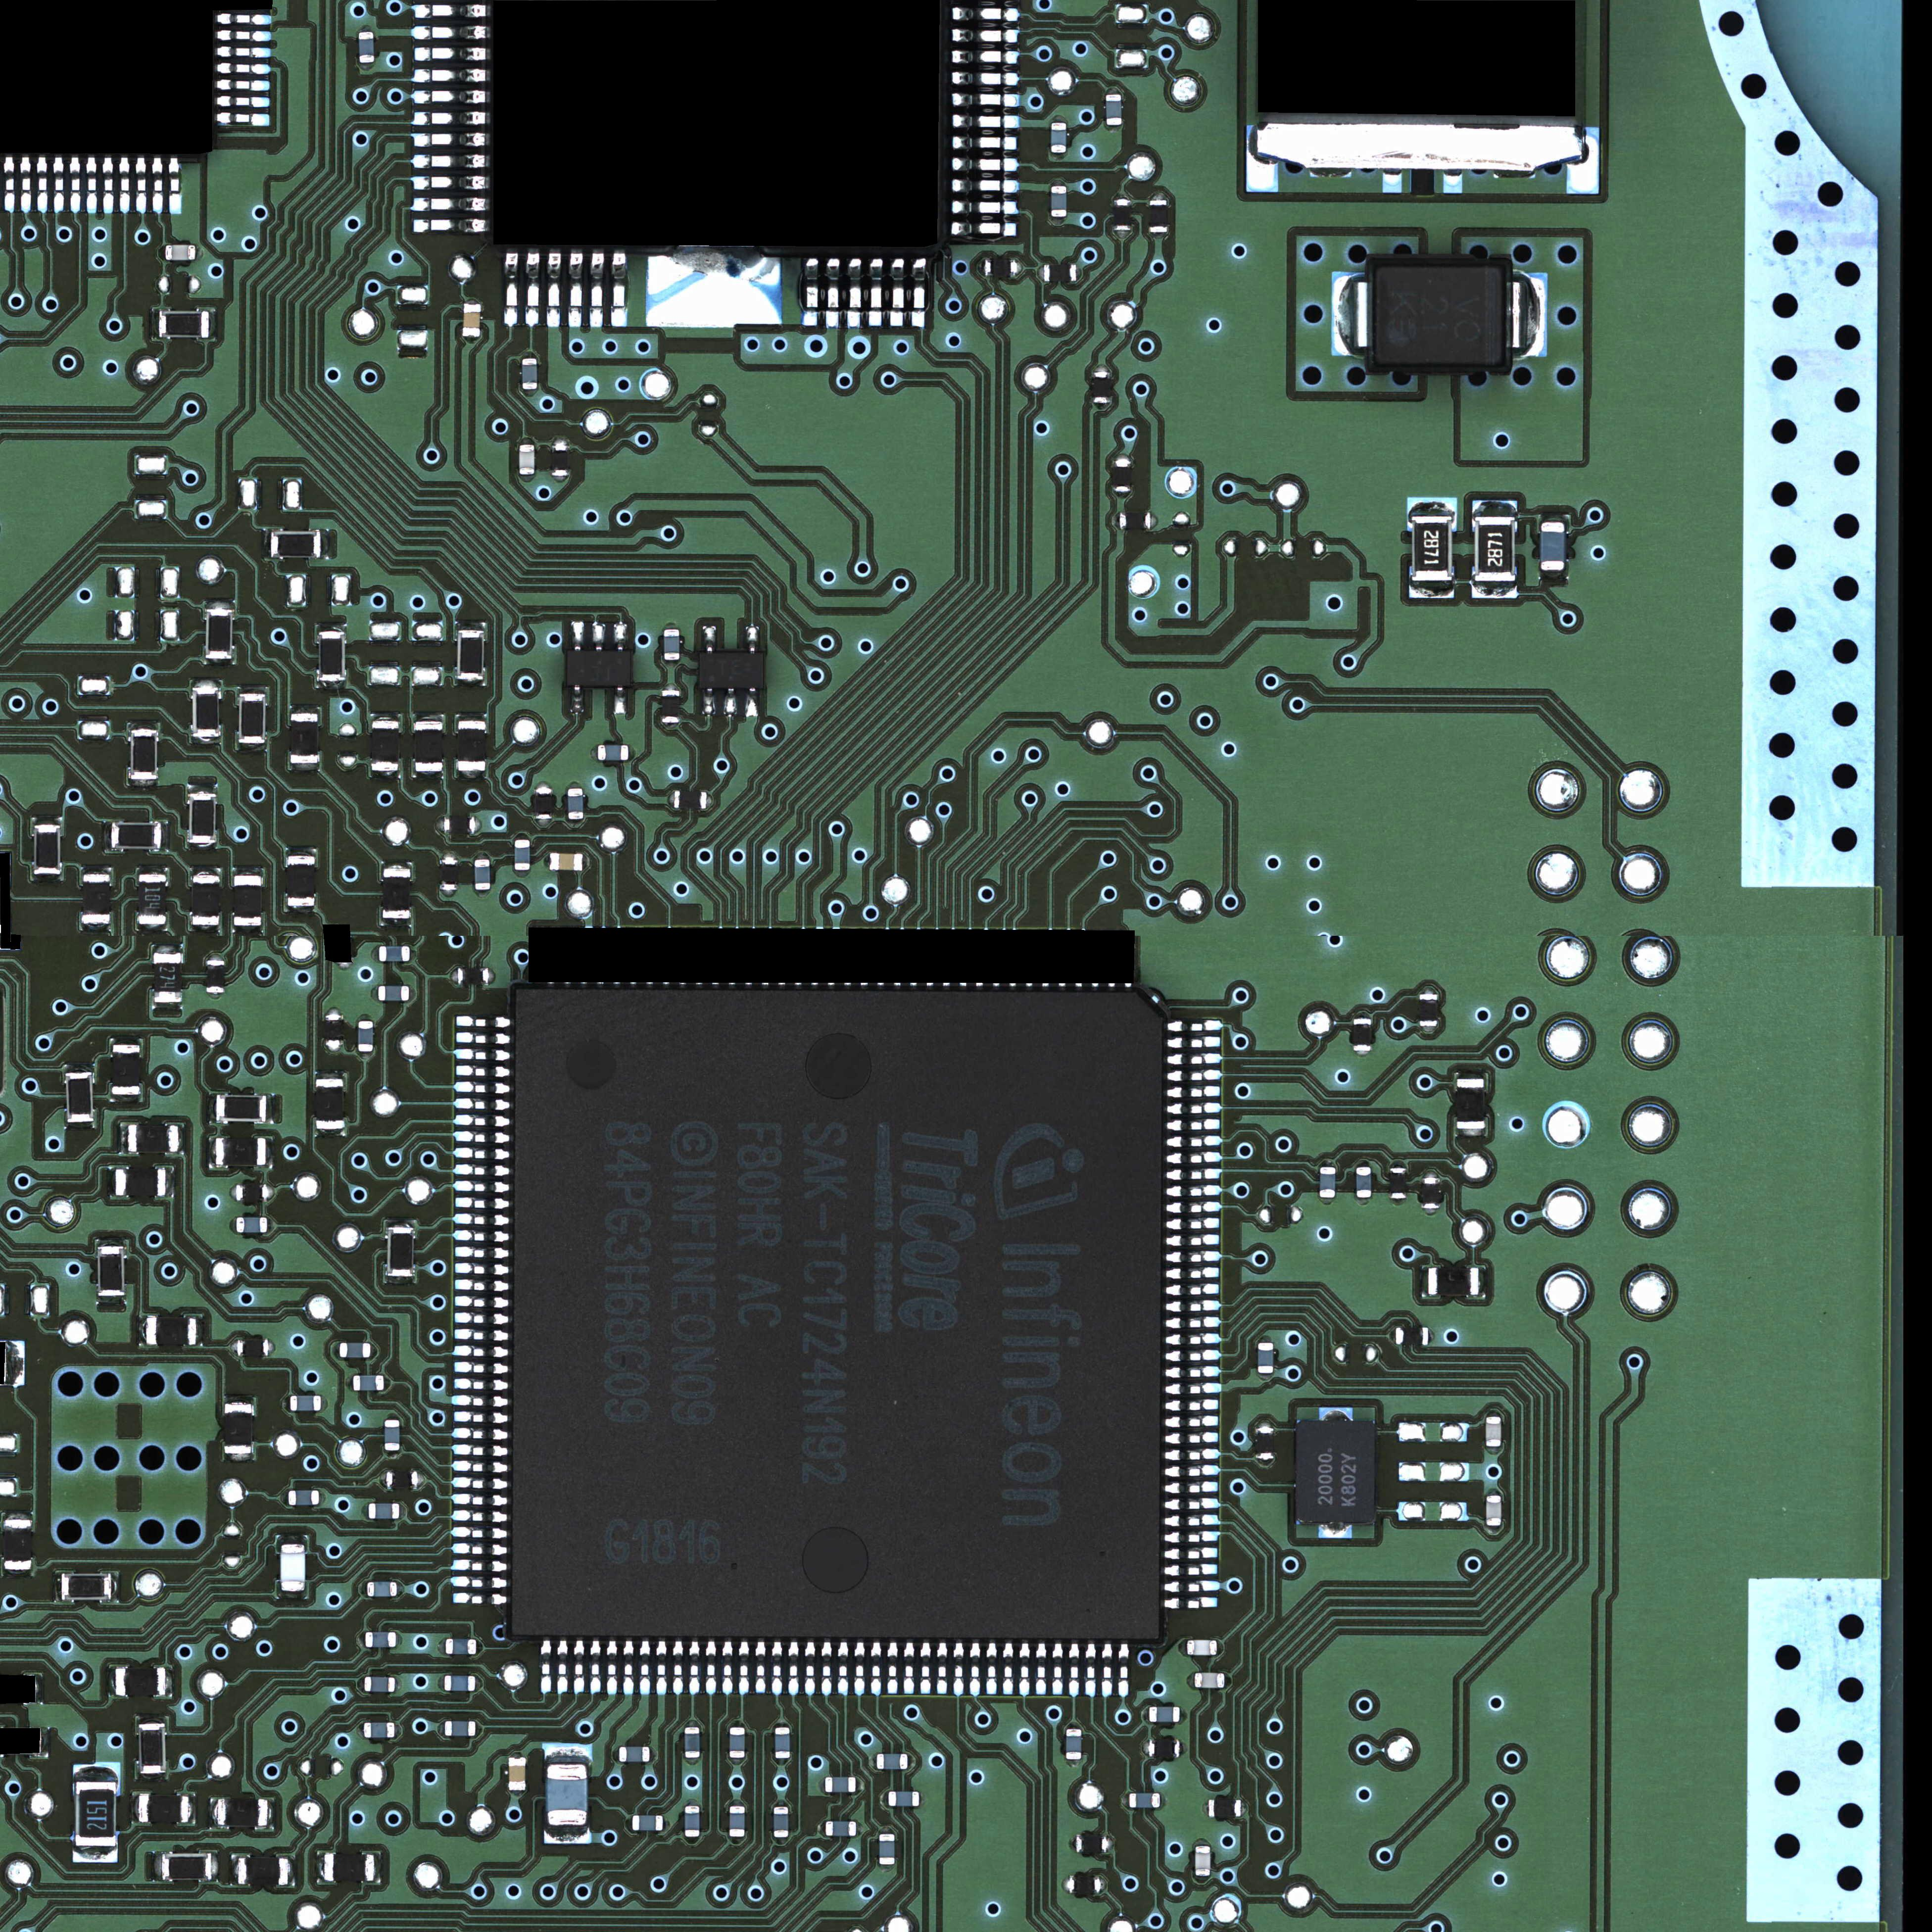Package: (515, 989, 1159, 1638), (1375, 267, 1504, 366), (1295, 1419, 1376, 1523), (76, 1782, 117, 1847), (1474, 517, 1514, 582), (1412, 517, 1453, 580), (547, 1764, 587, 1824), (699, 653, 764, 688), (566, 651, 632, 685), (1428, 1267, 1477, 1297), (216, 1138, 265, 1166), (225, 1403, 253, 1453), (315, 1079, 343, 1129), (147, 1316, 196, 1345), (1456, 1079, 1484, 1129), (111, 1046, 140, 1095), (290, 713, 318, 763), (414, 722, 442, 771), (382, 869, 410, 918), (4, 1520, 32, 1569), (287, 856, 315, 906), (115, 1169, 166, 1196), (189, 793, 216, 844), (159, 311, 209, 338), (140, 1796, 189, 1822), (324, 1854, 373, 1881), (115, 1668, 165, 1695), (234, 876, 260, 925), (218, 1799, 267, 1826), (458, 722, 485, 771), (318, 632, 345, 681), (239, 1858, 288, 1884), (83, 874, 110, 924), (65, 1072, 92, 1122), (154, 952, 180, 1001), (34, 824, 60, 874), (131, 729, 157, 778), (193, 688, 219, 738), (127, 1125, 177, 1152), (193, 876, 219, 925), (140, 874, 166, 924), (218, 1095, 265, 1122), (97, 1247, 124, 1295), (387, 1228, 414, 1276), (372, 722, 398, 770), (271, 533, 320, 557), (111, 824, 161, 849), (140, 1723, 165, 1773), (62, 1575, 111, 1599), (458, 630, 483, 679), (241, 694, 265, 743), (207, 610, 232, 658), (1541, 522, 1566, 570), (163, 1854, 211, 1879), (281, 1545, 306, 1591), (662, 690, 681, 724), (1419, 993, 1437, 1026), (984, 258, 1017, 276), (464, 304, 481, 336), (1150, 200, 1168, 232), (1353, 1019, 1371, 1051), (1044, 264, 1076, 281), (674, 791, 706, 809), (1208, 1799, 1240, 1817), (1113, 460, 1131, 492), (1256, 1428, 1274, 1460), (1148, 1739, 1180, 1757), (1093, 372, 1111, 403), (550, 853, 582, 870), (207, 961, 225, 993), (510, 1757, 525, 1790), (1389, 1168, 1407, 1198), (1077, 1835, 1108, 1852), (1422, 1178, 1440, 1208), (879, 1833, 895, 1865), (824, 1776, 856, 1792), (1051, 186, 1067, 218), (456, 968, 488, 984), (685, 1727, 701, 1759), (888, 1790, 920, 1806), (444, 1675, 476, 1691), (384, 1419, 400, 1451), (237, 1339, 269, 1355), (536, 787, 552, 819), (1396, 1329, 1428, 1345), (1069, 1877, 1100, 1893), (633, 1815, 663, 1831), (1129, 1792, 1159, 1808), (1115, 200, 1131, 230), (1320, 1168, 1336, 1198), (379, 985, 409, 1001), (1194, 1672, 1224, 1688), (357, 1021, 373, 1051), (441, 860, 456, 890), (1106, 96, 1122, 126), (729, 1727, 745, 1757), (878, 1753, 908, 1769), (237, 1217, 267, 1233), (1194, 1845, 1210, 1875), (288, 1490, 318, 1506), (729, 1806, 745, 1836), (366, 1631, 396, 1647), (826, 1821, 856, 1836), (1486, 1495, 1502, 1525), (354, 1375, 384, 1391), (522, 359, 538, 389), (1150, 1706, 1180, 1721), (663, 630, 679, 660), (474, 860, 490, 890), (446, 1638, 476, 1654), (598, 745, 628, 761), (444, 817, 474, 833), (387, 1472, 418, 1488), (1120, 513, 1150, 529), (166, 244, 195, 260), (1051, 124, 1067, 152), (444, 1721, 476, 1736), (775, 1727, 789, 1759), (554, 444, 568, 476), (773, 1806, 787, 1836), (1486, 1417, 1500, 1447), (1357, 1168, 1371, 1198), (359, 32, 373, 62), (1258, 1343, 1272, 1373), (379, 947, 409, 961), (290, 1396, 320, 1410), (619, 1746, 649, 1760), (568, 789, 582, 819), (1067, 1729, 1081, 1759), (364, 1677, 395, 1691), (515, 840, 529, 870), (685, 1806, 699, 1836), (368, 1504, 398, 1518), (364, 1723, 395, 1737), (340, 1343, 370, 1357), (368, 1582, 396, 1596), (1187, 1640, 1215, 1654), (520, 446, 534, 474)
Solder: (1244, 124, 1599, 195), (646, 255, 782, 326), (1330, 272, 1375, 356), (1506, 272, 1548, 357), (587, 251, 607, 331), (610, 251, 630, 329), (545, 251, 564, 329), (409, 196, 490, 214), (409, 173, 490, 191), (407, 152, 488, 170), (409, 46, 490, 64), (410, 218, 490, 235), (410, 131, 490, 149), (409, 25, 488, 42), (502, 249, 520, 329), (566, 251, 584, 329), (524, 251, 541, 329), (409, 111, 490, 127), (407, 67, 488, 83), (911, 257, 929, 329), (409, 88, 488, 104), (409, 4, 488, 19), (867, 258, 885, 329), (846, 258, 863, 329), (824, 258, 842, 329), (952, 27, 1021, 44), (890, 257, 906, 329), (952, 7, 1023, 23), (803, 258, 819, 329), (950, 71, 1021, 87), (950, 50, 1021, 65), (952, 92, 1023, 108), (952, 113, 1023, 129), (952, 134, 1023, 150), (950, 156, 1021, 172), (950, 179, 1021, 195), (950, 200, 1021, 216), (948, 221, 1019, 237), (216, 60, 276, 76), (545, 1744, 593, 1764), (1408, 495, 1456, 515), (133, 156, 149, 214), (18, 154, 34, 212), (216, 111, 272, 127), (453, 1327, 508, 1343), (5, 1341, 25, 1385), (117, 154, 131, 214), (53, 154, 67, 214), (214, 94, 274, 108), (214, 78, 274, 92), (216, 46, 276, 60), (168, 156, 182, 214), (150, 156, 165, 214), (85, 154, 99, 212), (216, 28, 274, 42), (216, 12, 274, 27), (545, 1826, 591, 1844), (73, 1764, 119, 1782), (451, 1559, 508, 1573), (453, 1295, 510, 1309), (451, 1476, 508, 1490), (453, 1131, 510, 1145), (451, 1525, 508, 1539), (453, 1146, 510, 1161), (69, 156, 83, 212), (1164, 1513, 1219, 1527), (1166, 1168, 1221, 1182), (1164, 1497, 1219, 1511), (453, 1311, 508, 1325), (1166, 1085, 1221, 1099), (455, 1047, 510, 1062), (1164, 1447, 1219, 1461), (455, 1261, 510, 1276), (455, 1246, 510, 1260), (453, 1410, 508, 1424), (455, 1081, 510, 1095), (1164, 1596, 1217, 1610), (1166, 1233, 1219, 1247), (1166, 1332, 1219, 1346), (1166, 1267, 1219, 1281), (1164, 1546, 1217, 1560), (1472, 501, 1518, 517), (73, 1847, 119, 1863), (1472, 582, 1518, 598), (4, 154, 16, 212), (1410, 582, 1454, 598), (455, 1115, 511, 1127), (453, 1214, 510, 1226), (455, 1099, 511, 1111), (455, 1031, 511, 1044), (455, 1016, 511, 1028), (451, 1576, 508, 1589), (451, 1394, 508, 1407), (451, 1543, 508, 1555), (451, 1493, 508, 1506), (453, 1230, 510, 1242), (453, 1164, 510, 1177), (451, 1509, 508, 1522), (451, 1428, 508, 1440), (1164, 1382, 1221, 1394), (103, 156, 115, 212), (35, 156, 48, 212), (1164, 1415, 1219, 1428), (453, 1460, 508, 1472), (1164, 1431, 1219, 1444), (455, 1198, 510, 1210), (1166, 1152, 1221, 1164), (453, 1362, 508, 1375), (455, 1279, 510, 1292), (455, 1180, 510, 1192), (1164, 1580, 1219, 1592), (1164, 1350, 1219, 1362), (453, 1444, 508, 1456), (1164, 1481, 1219, 1493), (1166, 1136, 1221, 1148), (1166, 1366, 1221, 1378), (1166, 1118, 1221, 1131), (453, 1345, 508, 1357), (837, 1642, 849, 1697), (456, 1065, 511, 1077), (1166, 1201, 1221, 1214), (540, 1640, 552, 1695), (803, 1642, 816, 1697), (1166, 1037, 1221, 1049), (1168, 1019, 1223, 1031), (455, 1378, 508, 1391), (1168, 1069, 1221, 1081), (1168, 1053, 1221, 1065), (1164, 1530, 1217, 1543), (1166, 1217, 1219, 1230), (1166, 1184, 1219, 1196), (1168, 1102, 1221, 1115), (453, 1592, 506, 1605), (1164, 1465, 1217, 1477), (1166, 1316, 1219, 1329), (1164, 1564, 1217, 1576), (886, 1642, 899, 1695), (1166, 1283, 1219, 1295), (985, 1642, 998, 1695), (1001, 1642, 1014, 1695), (936, 1642, 948, 1693), (1035, 1644, 1047, 1695), (1166, 1251, 1221, 1261), (1164, 1399, 1219, 1410), (672, 1640, 683, 1695), (706, 1640, 717, 1695), (970, 1642, 980, 1697), (557, 1640, 568, 1695), (589, 1640, 600, 1695), (607, 1640, 617, 1695), (623, 1640, 633, 1695), (821, 1642, 832, 1697), (855, 1642, 865, 1697), (954, 1642, 964, 1697), (1102, 1644, 1113, 1698), (1118, 1644, 1129, 1698), (1166, 1300, 1221, 1311), (573, 1640, 584, 1693), (1019, 1644, 1030, 1697), (755, 1642, 766, 1695), (639, 1642, 649, 1695), (656, 1642, 667, 1695), (688, 1642, 699, 1695), (722, 1642, 732, 1695), (771, 1642, 782, 1695), (789, 1642, 800, 1695), (870, 1642, 881, 1695), (904, 1642, 915, 1695), (920, 1642, 931, 1695), (1069, 1644, 1079, 1697), (1053, 1644, 1063, 1695), (1086, 1644, 1095, 1698), (1318, 1523, 1352, 1537), (740, 1642, 748, 1695), (1318, 1407, 1353, 1419), (745, 688, 759, 717), (570, 686, 584, 713), (702, 688, 717, 715), (724, 688, 738, 715), (571, 621, 584, 651), (205, 598, 235, 610), (614, 623, 626, 651), (593, 623, 605, 651), (614, 686, 626, 715), (189, 865, 221, 876), (232, 865, 264, 876), (702, 626, 715, 653), (285, 846, 315, 856), (384, 1219, 418, 1228), (747, 626, 757, 653), (455, 713, 487, 722), (232, 925, 264, 934), (96, 1238, 127, 1247), (138, 1315, 147, 1346), (276, 1536, 308, 1545), (276, 1591, 308, 1599), (165, 1667, 173, 1698), (380, 860, 412, 869), (262, 527, 271, 557), (414, 713, 444, 722), (127, 778, 157, 787), (138, 865, 168, 874), (103, 821, 111, 851), (189, 925, 219, 934), (188, 784, 218, 793), (96, 1295, 126, 1304), (195, 1316, 203, 1346), (225, 1453, 255, 1461), (315, 1129, 345, 1138), (456, 621, 485, 630), (193, 679, 221, 688), (290, 704, 318, 713), (81, 924, 110, 932), (32, 874, 60, 883), (32, 816, 60, 824), (225, 1394, 253, 1403), (315, 1070, 343, 1079), (134, 1716, 168, 1723), (134, 1775, 168, 1782), (379, 918, 412, 925), (372, 711, 398, 720), (1541, 513, 1568, 522), (1541, 570, 1568, 579), (412, 771, 444, 778), (110, 1039, 142, 1046), (177, 1123, 184, 1155), (265, 1138, 272, 1169), (288, 1854, 295, 1886), (317, 1851, 324, 1882), (373, 1852, 380, 1884), (55, 1571, 62, 1603), (111, 1571, 119, 1603), (1421, 1265, 1428, 1297), (320, 529, 327, 559), (203, 658, 234, 665), (237, 743, 267, 750), (237, 686, 267, 694), (370, 770, 400, 777), (456, 771, 487, 778), (317, 625, 347, 632), (127, 722, 157, 729), (159, 821, 166, 851), (81, 867, 111, 874), (152, 945, 182, 952), (188, 842, 218, 849), (110, 1095, 140, 1102), (64, 1122, 94, 1129), (64, 1065, 94, 1072), (120, 1123, 127, 1154), (166, 1168, 173, 1198), (108, 1168, 115, 1198), (209, 1138, 216, 1168), (265, 1093, 272, 1123), (209, 1093, 216, 1123), (267, 1799, 274, 1829), (189, 1794, 196, 1824), (156, 1851, 163, 1881), (108, 1667, 115, 1697), (232, 1854, 239, 1884), (285, 906, 315, 913), (386, 1276, 416, 1283), (1479, 1267, 1486, 1297), (42, 1727, 50, 1757), (152, 310, 159, 338), (317, 681, 345, 688), (138, 924, 166, 931), (211, 1798, 218, 1826), (131, 1794, 138, 1822), (4, 1513, 32, 1520), (1456, 1072, 1484, 1079), (1456, 1129, 1484, 1136), (37, 1674, 44, 1702), (209, 311, 216, 338), (191, 738, 221, 743), (152, 1003, 182, 1008), (534, 819, 552, 828), (566, 780, 584, 789), (1178, 1638, 1187, 1656), (1353, 1010, 1371, 1019), (290, 764, 318, 770), (212, 1854, 218, 1882), (4, 1569, 32, 1575), (157, 244, 166, 260), (280, 1490, 288, 1506), (437, 1638, 446, 1654), (773, 1836, 789, 1845), (729, 1836, 745, 1845), (370, 985, 379, 1001), (357, 1051, 373, 1060), (435, 817, 444, 833), (628, 745, 637, 761), (1141, 1707, 1150, 1723), (518, 474, 534, 483), (1051, 152, 1067, 161), (1111, 513, 1120, 529), (1150, 513, 1159, 529), (1486, 1525, 1502, 1534), (550, 476, 570, 483), (1419, 1026, 1438, 1033), (195, 246, 203, 260), (464, 297, 481, 304), (464, 336, 481, 343), (207, 954, 225, 961), (398, 1504, 407, 1518), (379, 1470, 386, 1488), (474, 817, 483, 832), (534, 780, 552, 787), (566, 819, 584, 826), (513, 870, 531, 878), (589, 745, 598, 759), (1067, 1759, 1081, 1767), (1069, 1835, 1076, 1852), (1062, 1875, 1069, 1893), (1180, 1739, 1187, 1757), (1141, 1739, 1148, 1757), (1201, 1799, 1208, 1817), (977, 258, 984, 276), (1150, 232, 1168, 239), (1093, 364, 1111, 372), (1113, 230, 1131, 237), (1093, 403, 1111, 410), (1115, 453, 1132, 460), (1113, 492, 1131, 499), (1419, 985, 1437, 993), (1389, 1198, 1407, 1205), (1389, 1161, 1407, 1168), (1389, 1327, 1396, 1345), (1256, 1421, 1274, 1428), (1256, 1460, 1274, 1467), (359, 62, 373, 71), (207, 993, 223, 1000), (230, 1339, 237, 1355), (269, 1339, 276, 1355), (322, 1396, 329, 1412), (418, 1472, 425, 1488), (384, 1451, 400, 1458), (384, 1412, 400, 1419), (384, 1375, 391, 1391), (370, 1343, 377, 1359), (359, 1580, 366, 1596), (357, 1631, 364, 1647), (357, 1721, 364, 1737), (476, 1675, 483, 1691), (437, 1675, 444, 1691), (437, 1720, 444, 1736), (476, 1721, 483, 1737), (625, 1815, 632, 1831), (649, 1746, 656, 1762), (685, 1759, 701, 1766), (685, 1720, 701, 1727), (729, 1759, 745, 1766), (729, 1720, 745, 1727), (773, 1759, 789, 1766), (773, 1799, 789, 1806), (729, 1799, 745, 1806), (856, 1776, 863, 1792), (856, 1821, 863, 1836), (819, 1821, 826, 1836), (881, 1790, 888, 1806), (920, 1790, 927, 1806), (879, 1865, 895, 1872), (908, 1753, 915, 1769), (869, 1753, 876, 1769), (409, 985, 416, 1001), (449, 968, 456, 984), (488, 968, 495, 984), (357, 1014, 373, 1021), (515, 833, 531, 840), (543, 855, 550, 870), (584, 855, 591, 870), (441, 890, 456, 897), (474, 890, 490, 897), (442, 851, 458, 858), (474, 853, 490, 860), (667, 793, 674, 809), (706, 793, 713, 809), (1100, 1877, 1108, 1893), (1159, 1792, 1166, 1808), (1122, 1792, 1129, 1808), (1180, 1707, 1187, 1723), (1187, 1672, 1194, 1688), (1217, 1640, 1224, 1656), (1224, 1672, 1231, 1688), (1194, 1838, 1210, 1845), (1194, 1875, 1210, 1882), (522, 352, 538, 359), (522, 389, 538, 396), (518, 437, 534, 444), (1051, 115, 1067, 122), (1106, 87, 1122, 94), (1106, 126, 1122, 133), (1051, 218, 1067, 225), (1076, 265, 1083, 281), (1115, 193, 1131, 200), (1422, 1208, 1438, 1215), (1320, 1198, 1336, 1205), (1428, 1329, 1435, 1345), (1258, 1336, 1274, 1343), (1258, 1373, 1274, 1380), (1486, 1408, 1502, 1415), (1484, 1447, 1500, 1454), (1486, 1488, 1502, 1495), (663, 623, 679, 630), (662, 724, 681, 729), (662, 685, 681, 690), (230, 1217, 237, 1231), (283, 1396, 290, 1410), (361, 1504, 368, 1518), (345, 1375, 352, 1389), (333, 1343, 340, 1357), (398, 1582, 405, 1596), (396, 1633, 403, 1647), (395, 1677, 402, 1691), (357, 1677, 364, 1691), (395, 1723, 402, 1737), (476, 1640, 483, 1654), (685, 1836, 699, 1844), (685, 1799, 699, 1806), (612, 1746, 619, 1760), (372, 947, 379, 961), (1067, 1721, 1081, 1729), (1108, 1836, 1115, 1851), (1051, 179, 1065, 186), (1037, 265, 1044, 280), (1357, 1161, 1371, 1168), (1357, 1198, 1371, 1205), (359, 25, 373, 32), (1242, 1799, 1247, 1817), (552, 439, 570, 444), (1150, 195, 1168, 200), (1353, 1051, 1371, 1056), (318, 1491, 326, 1504), (267, 1217, 272, 1233), (510, 1752, 525, 1757), (510, 1790, 525, 1796), (663, 1815, 669, 1831), (879, 1828, 895, 1833), (1422, 1171, 1438, 1177), (1320, 1161, 1336, 1166), (663, 660, 679, 665), (819, 1778, 824, 1792), (410, 947, 416, 961), (1017, 260, 1023, 274), (773, 1723, 789, 1727)
